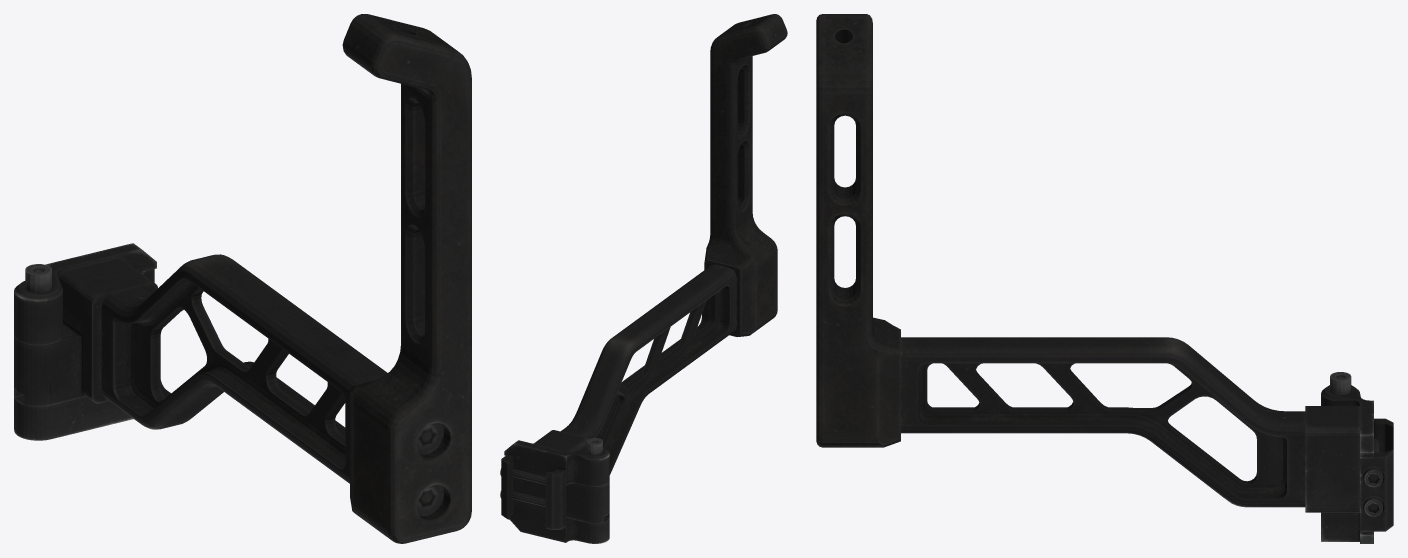
The picture shows the model from 3 angles, left to right: view 1: azimuth 30°, elevation 25°; view 2: azimuth 150°, elevation 25°; view 3: azimuth 270°, elevation 25°; orthographic projection. The views are drawn at different scales.
Visible parts, largest first — view 1: TW_6686717ffb75ee4a5e02eb19_PZ_Import; view 2: TW_6686717ffb75ee4a5e02eb19_PZ_Import; view 3: TW_6686717ffb75ee4a5e02eb19_PZ_Import.
Part boxes in pixels (<box>): TW_6686717ffb75ee4a5e02eb19_PZ_Import: <box>14,14,471,543</box>; TW_6686717ffb75ee4a5e02eb19_PZ_Import: <box>500,14,787,543</box>; TW_6686717ffb75ee4a5e02eb19_PZ_Import: <box>816,14,1393,543</box>.
Bounding box in the file's own units: 0.0252 × 0.1034 × 0.0987.
1 material, 1 textured.
